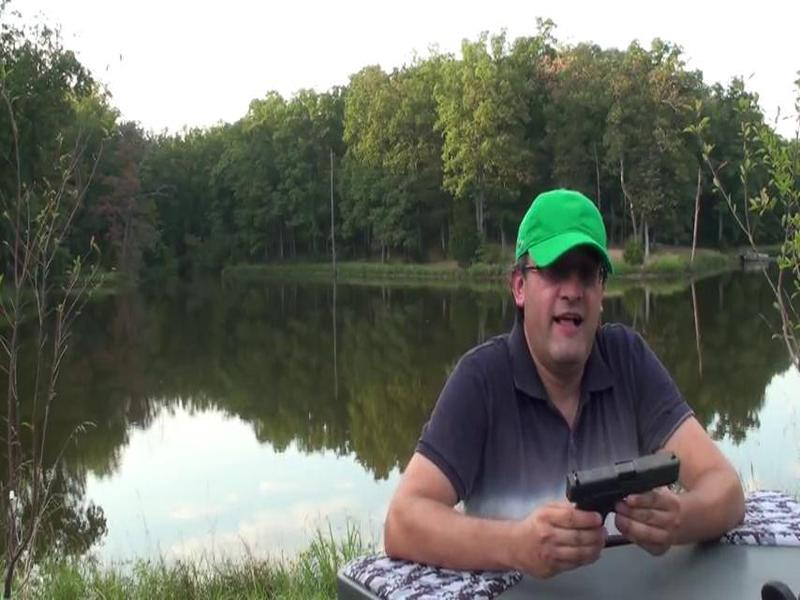Pistola: (555, 442, 689, 553)
